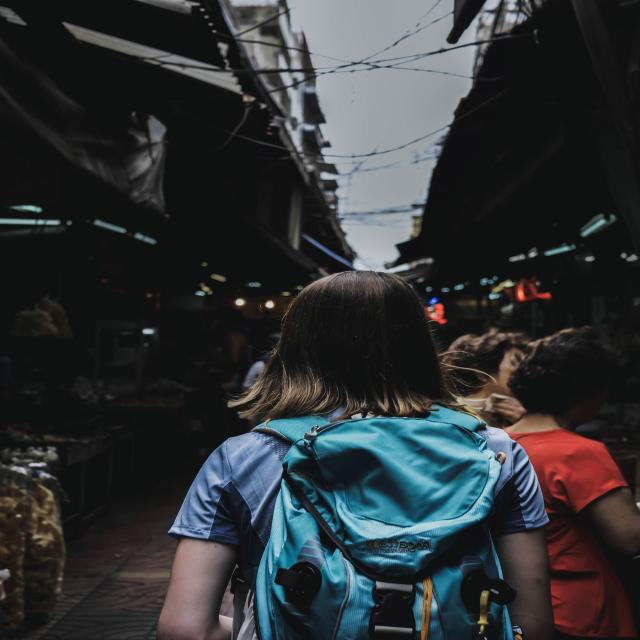adult: (155, 265, 552, 640)
